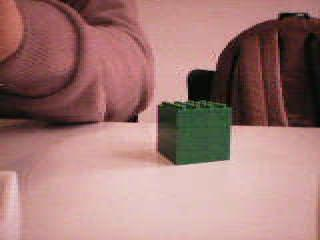legocube: (152, 99, 233, 166)
